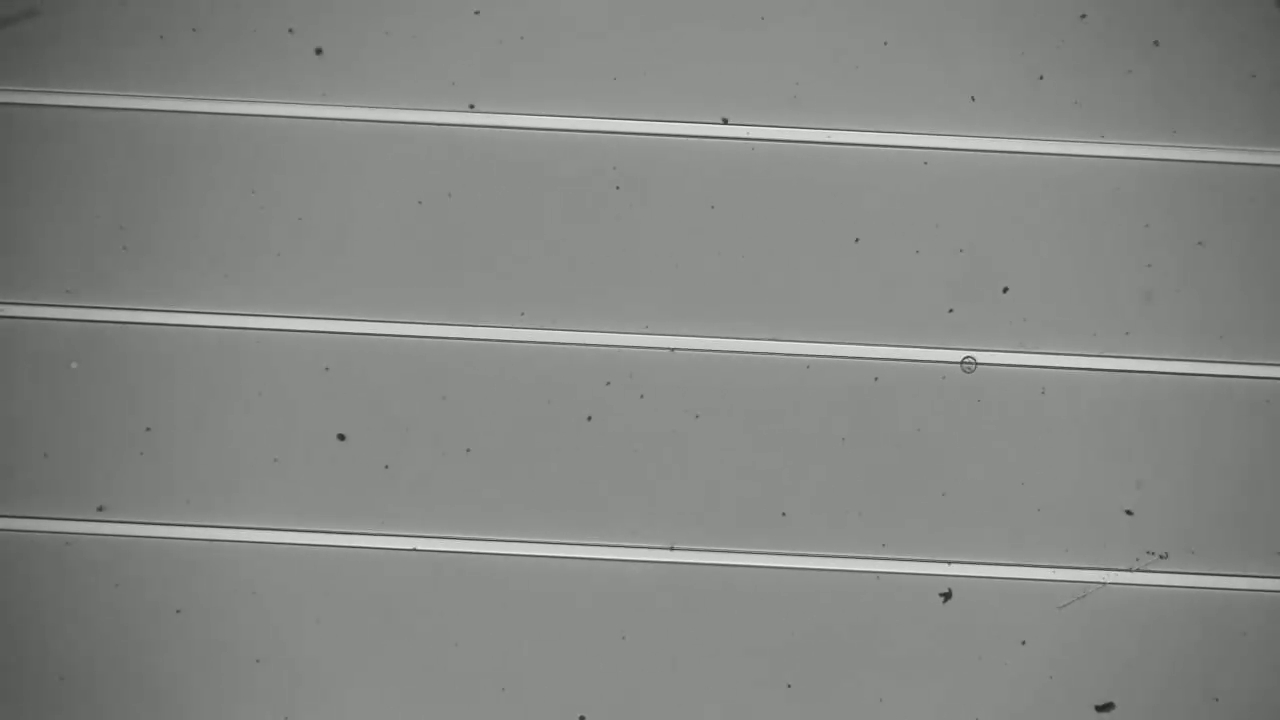stains_enbedded: (956, 343, 983, 375)
